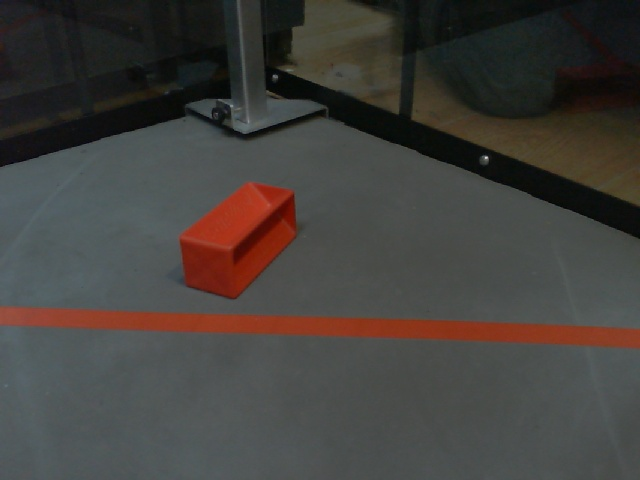RedSample: (179, 182, 300, 301)
